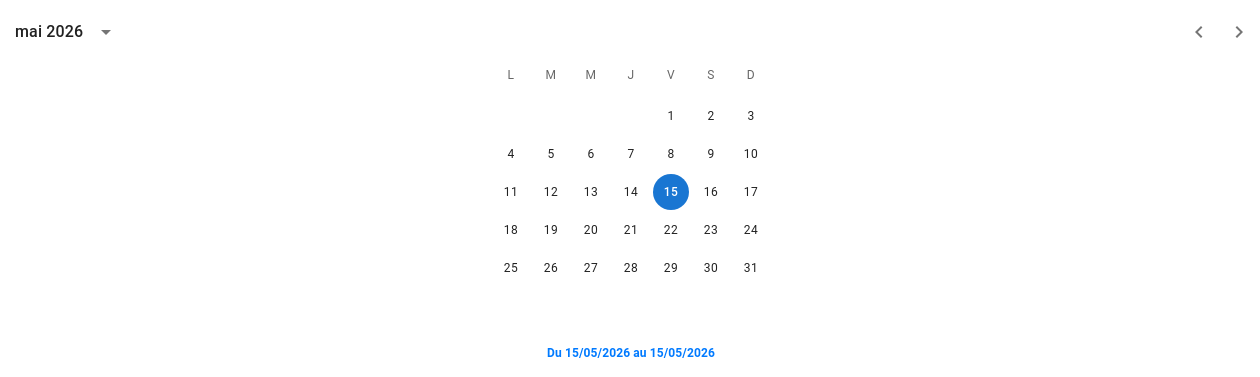
Test: RangeCalendar › shows a textual summary of the selected range
Click the cell "7": (631, 154) [613,136,649,172]
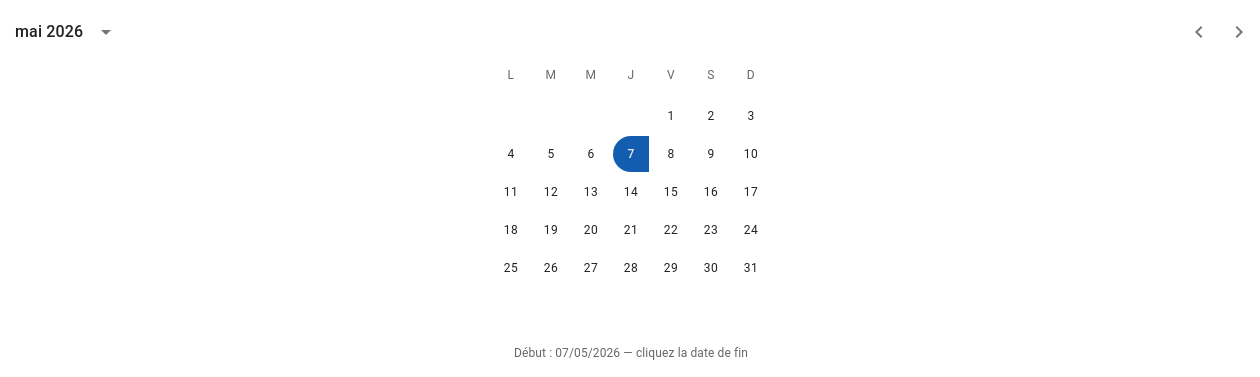
Now the text "Début : 07/05/2026 — cliquez la date de fin" is shown, box [514,346,748,360]
Click the cell "9": (711, 154) [693,136,729,172]
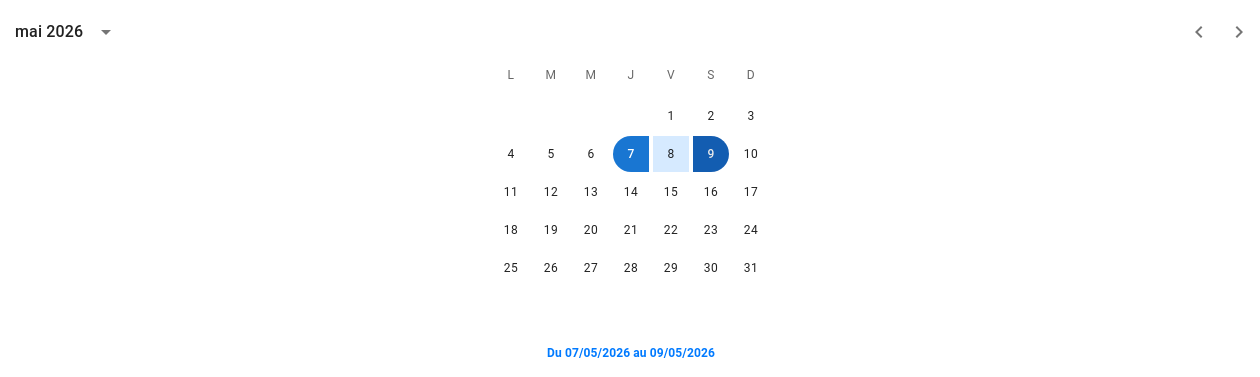
Now the text "Du 07/05/2026 au 09/05/2026" is shown, box [547,346,715,360]
